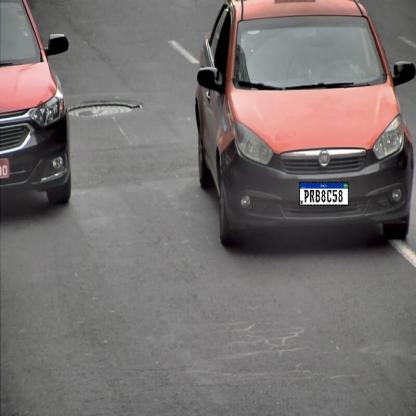PlacaM: (299, 182, 349, 206)
